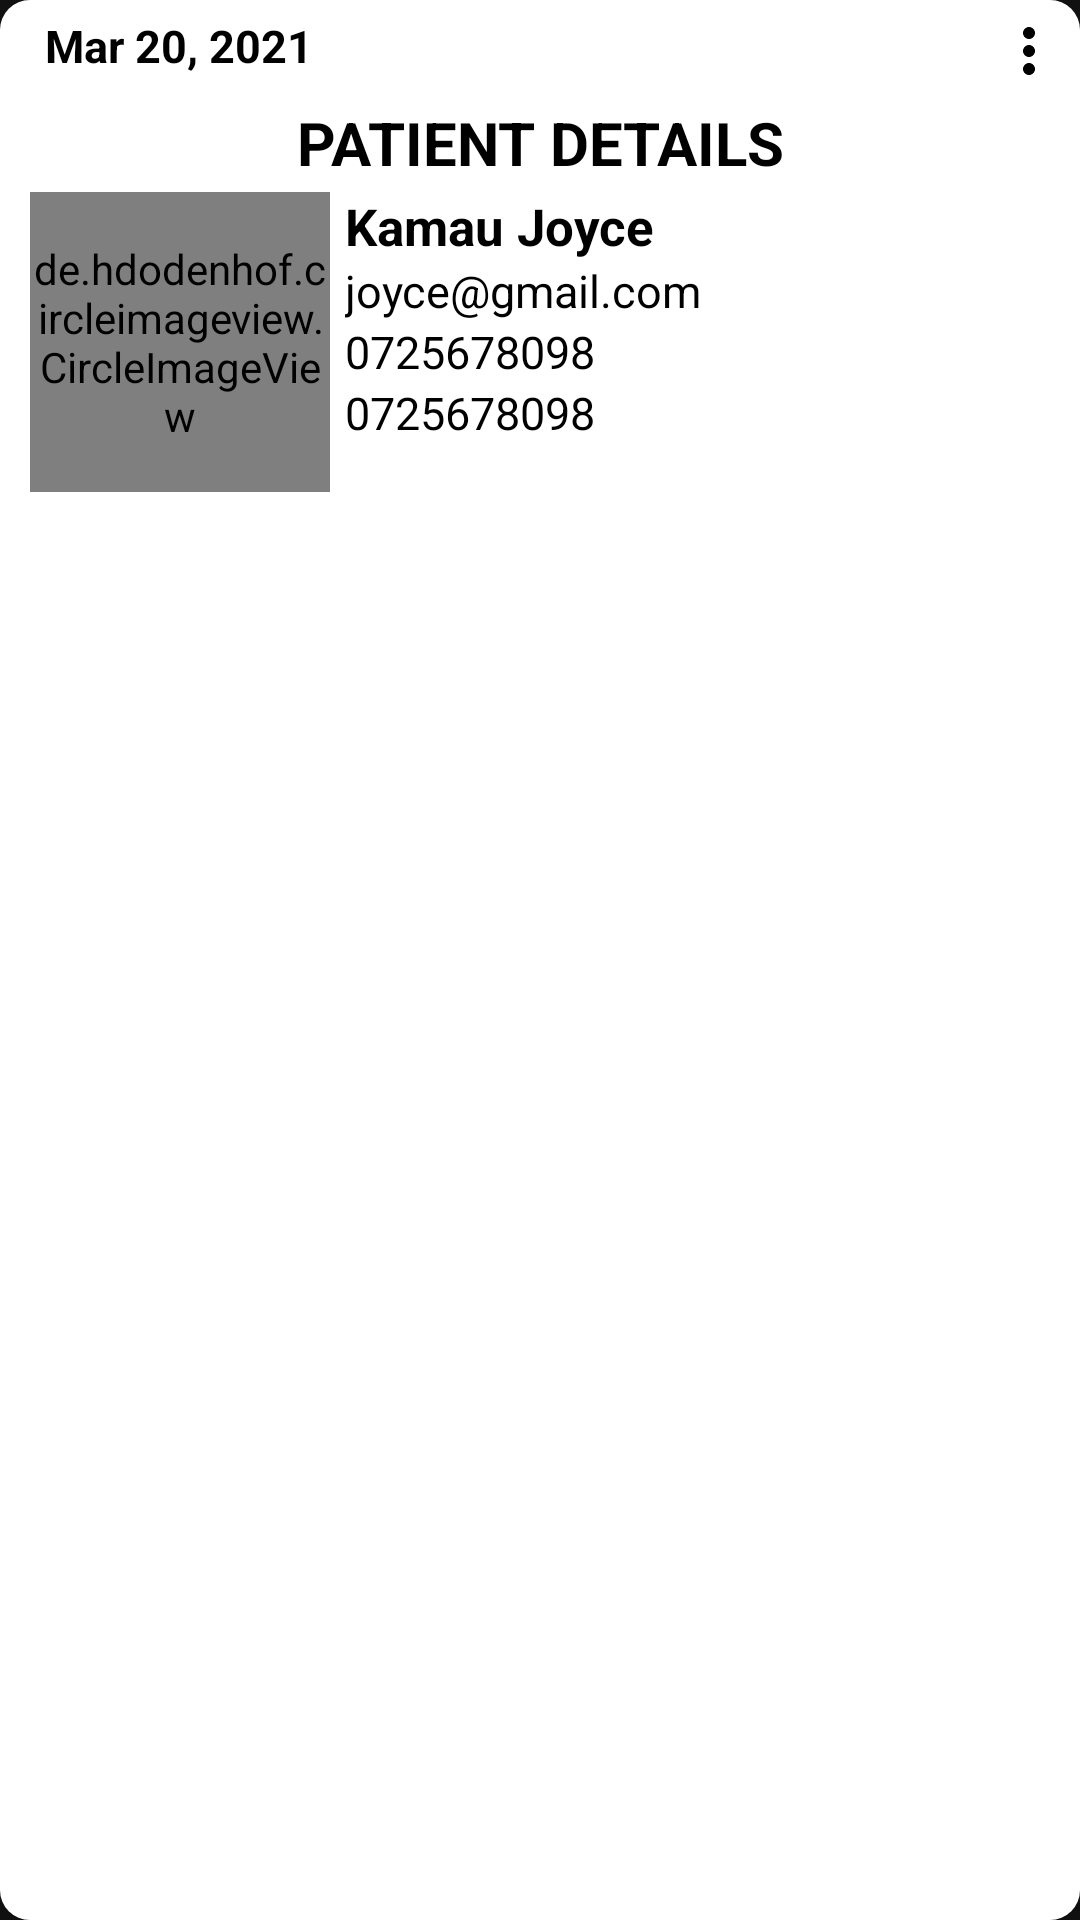

Locate icon controls on the screen. Image size 1080×1920, boxes as (x1, y1, x2, y2).
more: (1023, 27, 1035, 75)
